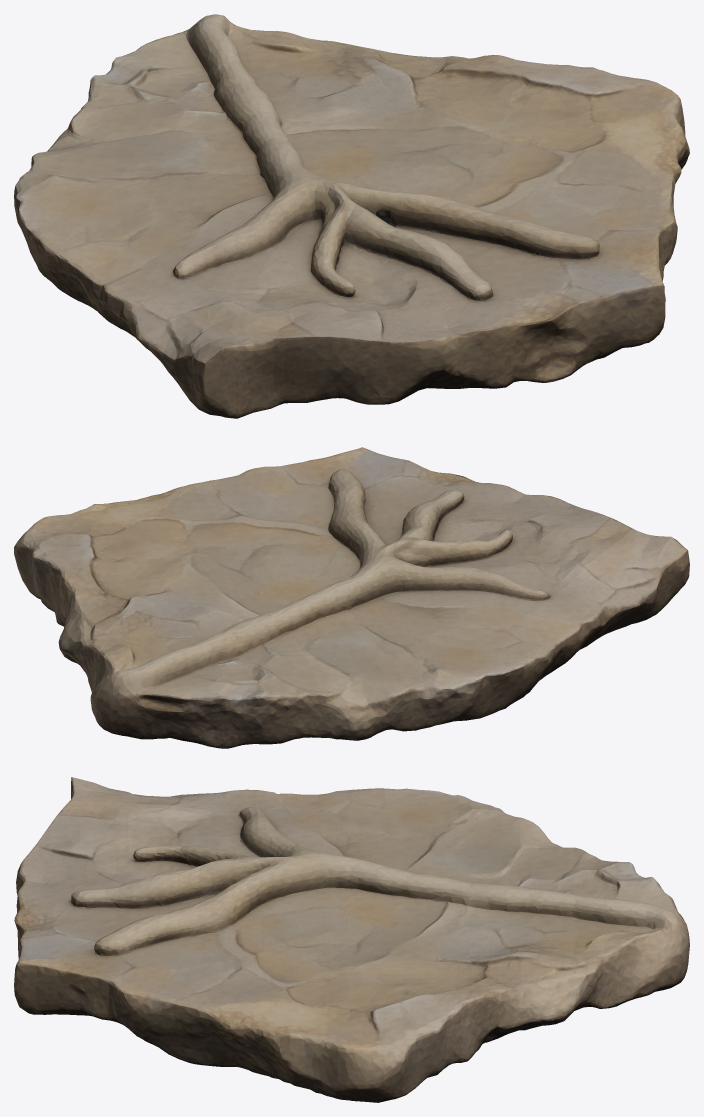
The picture shows the model from 3 angles, top to bottom: view 1: azimuth 30°, elevation 25°; view 2: azimuth 150°, elevation 25°; view 3: azimuth 270°, elevation 25°; orthographic projection. The views are drawn at different scales.
Visible parts, largest first — view 1: world; view 2: world; view 3: world.
Part boxes in pixels (<box>): world: <box>14,14,689,418</box>; world: <box>14,447,689,748</box>; world: <box>14,777,689,1102</box>.
Size of the model in its own units: 0.2426 by 0.038 by 0.25.
1 material, 1 textured.
